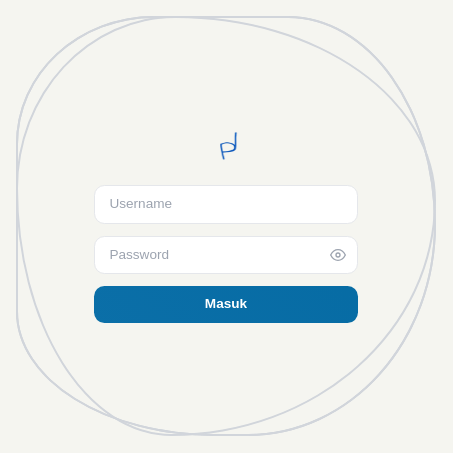
it: LoginPage › submit gagal dengan status 429 menampilkan pesan rate limit
Type "admin" into the field with id "login-username" at (226, 205), box [94,185,358,224]
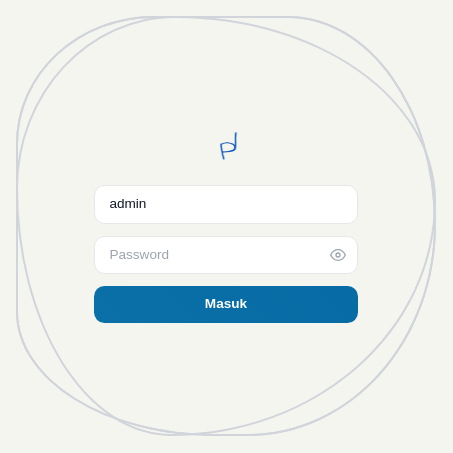
Type "spam" into the password field with id "login-password" at (226, 255), box [94,236,358,274]
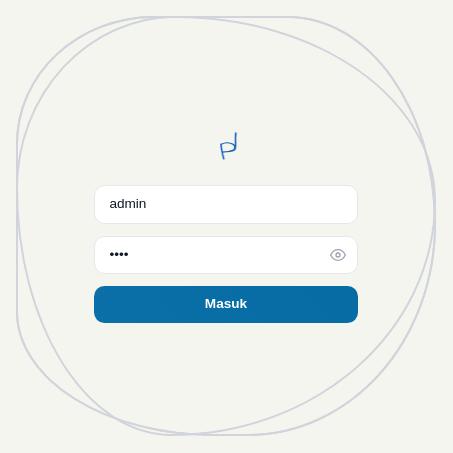
Submit the form, box [94,185,358,323]
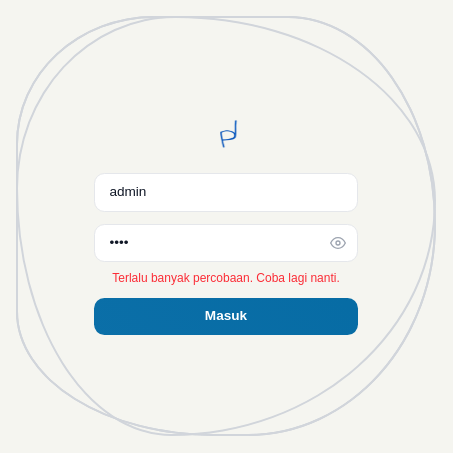
Check: the text "Terlalu banyak percobaan. Coba lagi nanti." is shown, box [94,270,358,286]
